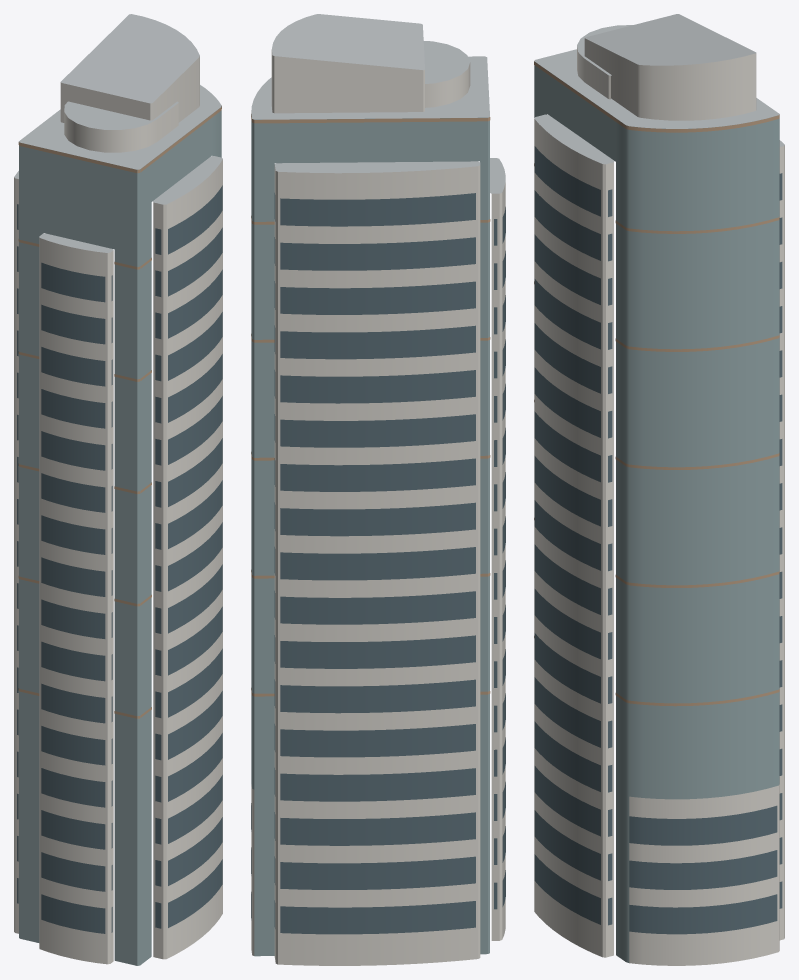
3 views of the same model, side by side, from view 1: azimuth 30°, elevation 25°; view 2: azimuth 150°, elevation 25°; view 3: azimuth 270°, elevation 25° (orthographic). The views are drawn at different scales.
Parts seen in each view (by area): view 1: two-union-square; view 2: two-union-square; view 3: two-union-square.
Boxes of the visible parts, left/top/right/bottom form: two-union-square: left=14, top=14, right=222, bottom=965; two-union-square: left=251, top=14, right=505, bottom=965; two-union-square: left=534, top=14, right=784, bottom=965.
Bounding box in the file's own units: 54.15 × 225 × 57.35.
